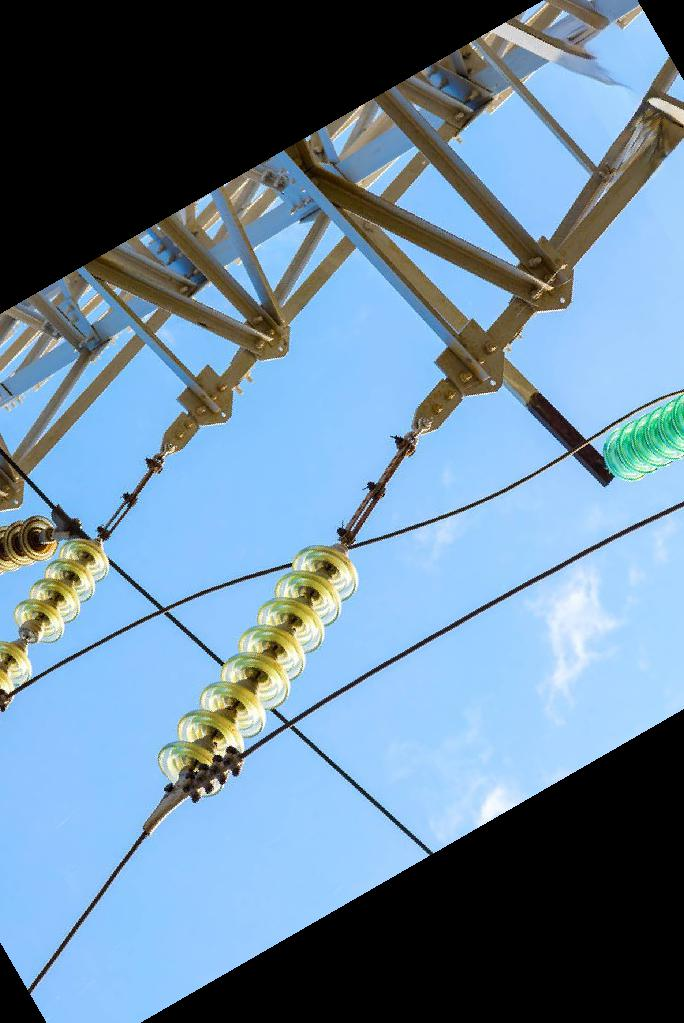insulator: (154, 537, 365, 805), (1, 533, 114, 699), (601, 385, 684, 491), (1, 507, 63, 579)
insulator_stringdrop: (1, 597, 66, 685)
